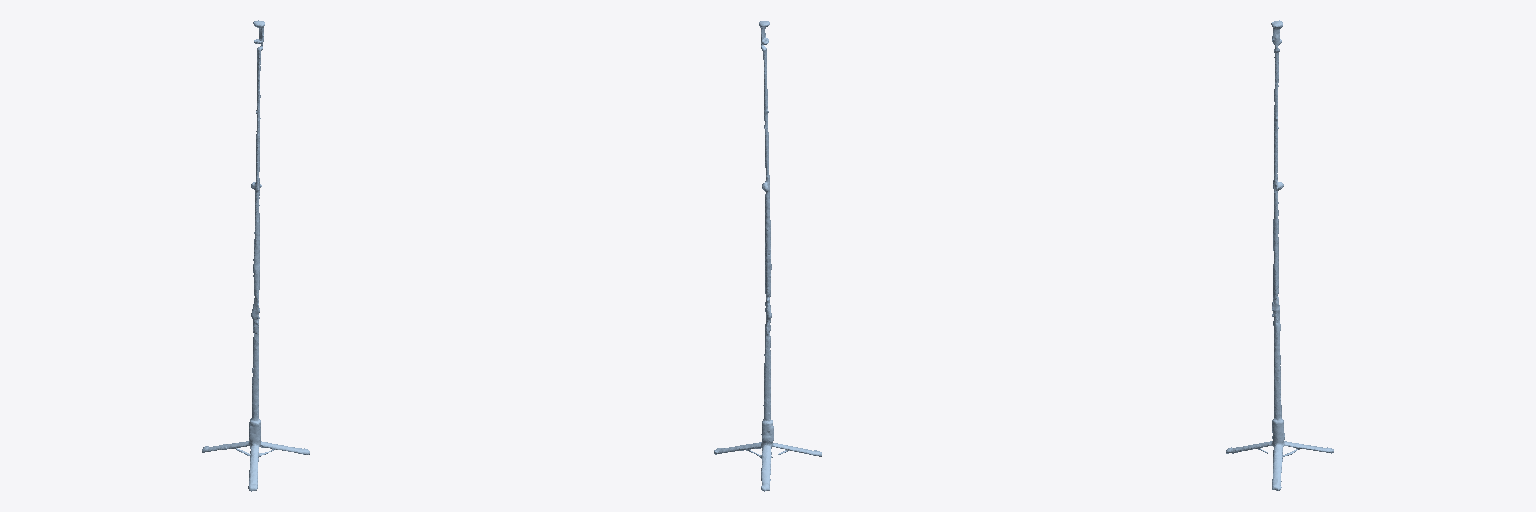
robot.urdf — tripod.urdf:
<?xml version="1.0" ?>
<robot name="tripod.urdf">
  <dynamics damping="0.5" friction="0.9"/>
  <link name="baseLink">
    <contact>
      <lateral_friction value="0.9"/>
      <rolling_friction value="0.5"/>
      <stiffness value="30000"/>
      <damping value="1000"/>
    </contact>
    <visual>
      <origin rpy="0 0 0" xyz="0 0 0"/>
      <geometry>
        <mesh filename="meshes/tripod/tripod.stl" scale="1.0 1.0 1.0"/>
      </geometry>
       <material name="mat">
        <color rgba="0.7 0.8 0.9 1"/>
      </material>
    </visual>
    <collision>
      <origin rpy="0 0 0" xyz="0 0 0"/>
      <geometry>
	 	<mesh filename="meshes/tripod/tripod.stl" scale="1.0 1.0 1.0"/>
      </geometry>
    </collision>
  </link>
</robot>

--- Facts derived from the render (not from the file) ---
Views: 3 orthographic renders of the robot side by side, from view 1: azimuth 30°, elevation 25°; view 2: azimuth 150°, elevation 25°; view 3: azimuth 270°, elevation 25°.
Model tripod.urdf with 1 links and 0 joints (none), rooted at baseLink, posed every joint at zero.
Links seen in each view (by area): view 1: baseLink; view 2: baseLink; view 3: baseLink.
Boxes of the visible links, <box> form: baseLink: <box>202,20,309,491</box>; baseLink: <box>714,21,821,491</box>; baseLink: <box>1226,20,1333,490</box>.
Size in the robot's own frame: 0.3091 by 0.3451 by 1.56 metres.
1 mesh visuals loaded from 1 distinct referenced files (1 binary STL).
